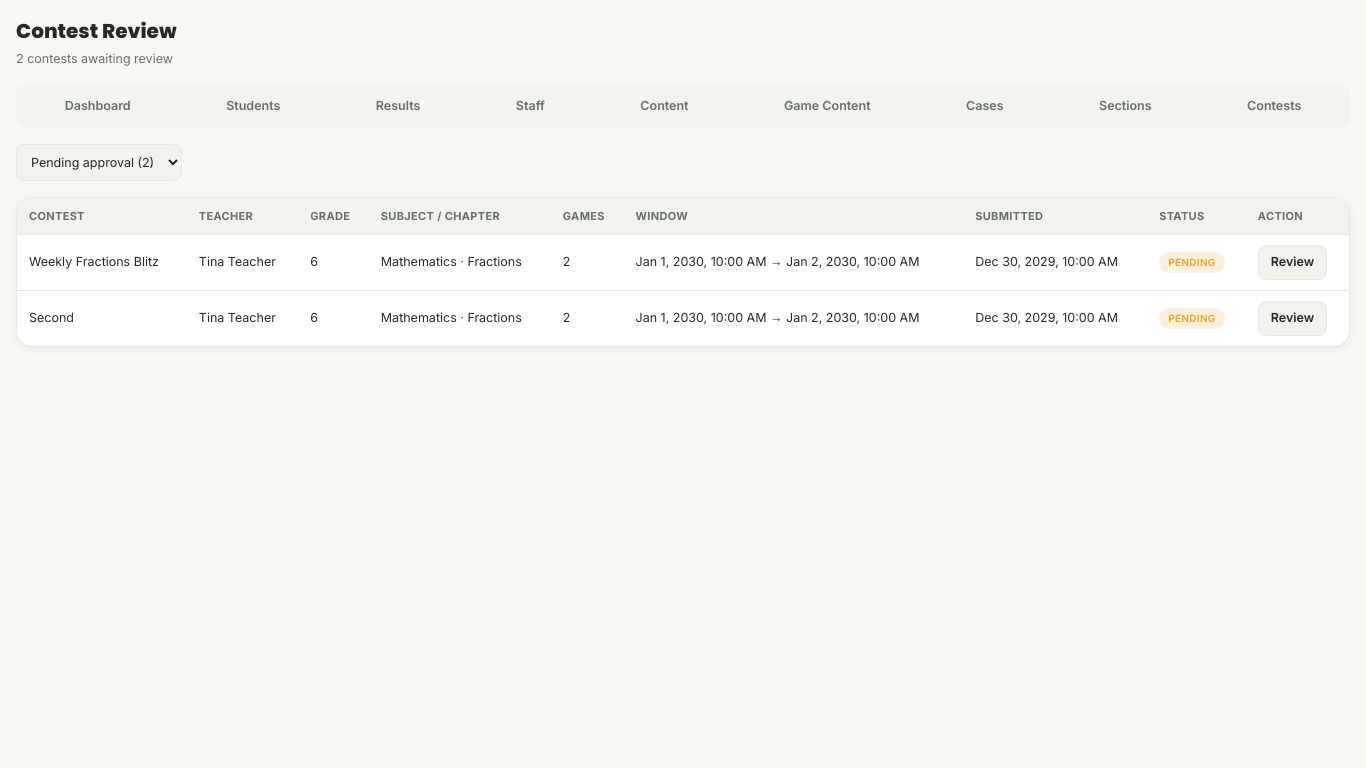
it: approve › confirming posts an EMPTY body (client never sends status/reviewer), closes the modal and refreshes the list
The image size is (1366, 768).
Expected: the text "Weekly Fractions Blitz" is shown, x1=17 y1=234 x2=187 y2=290
Click the button "Review" in the row of "Weekly Fractions Blitz": (1293, 262) x1=1258 y1=245 x2=1327 y2=280
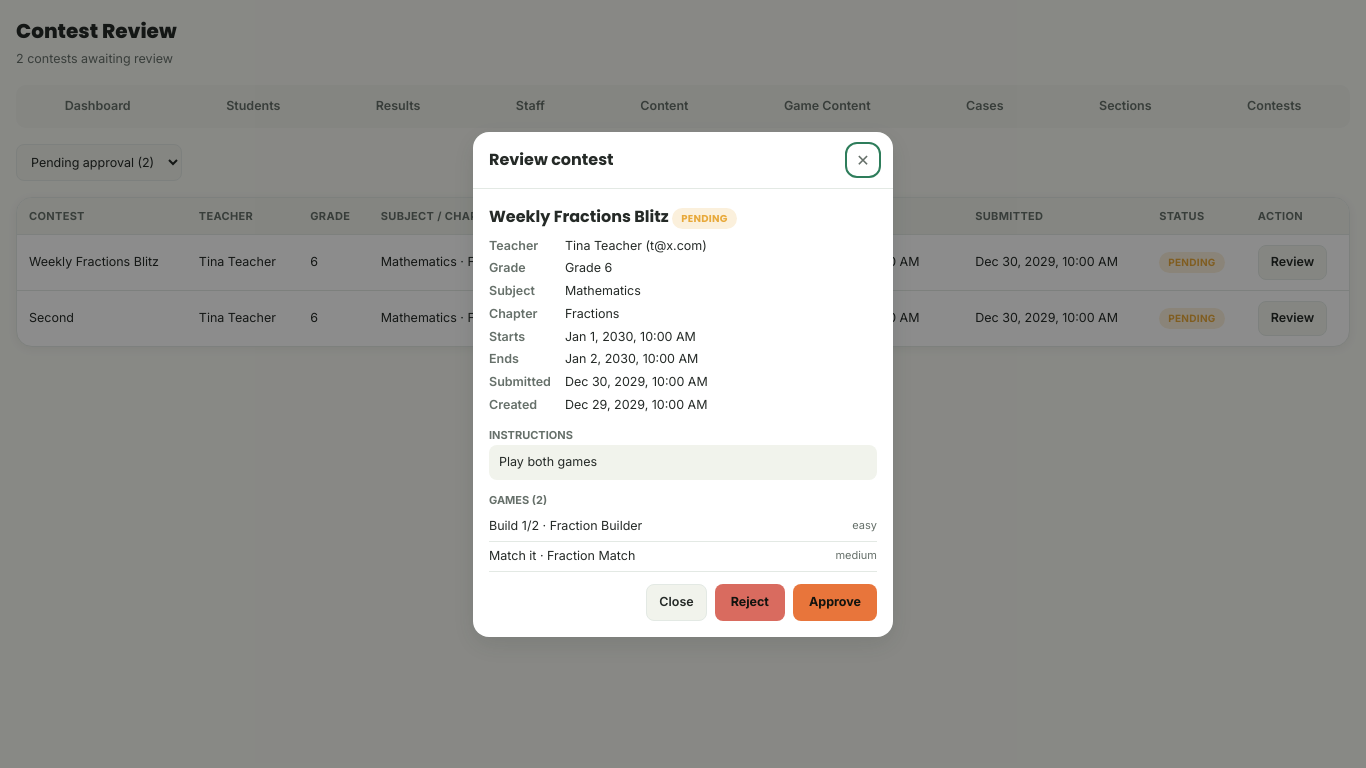
Result: the dialog is shown at x1=473 y1=132 x2=893 y2=636
Result: the text "Tina Teacher (t@x.com)" is shown at x1=565 y1=238 x2=707 y2=252
Click the button "Approve": (835, 602) x1=793 y1=584 x2=877 y2=621
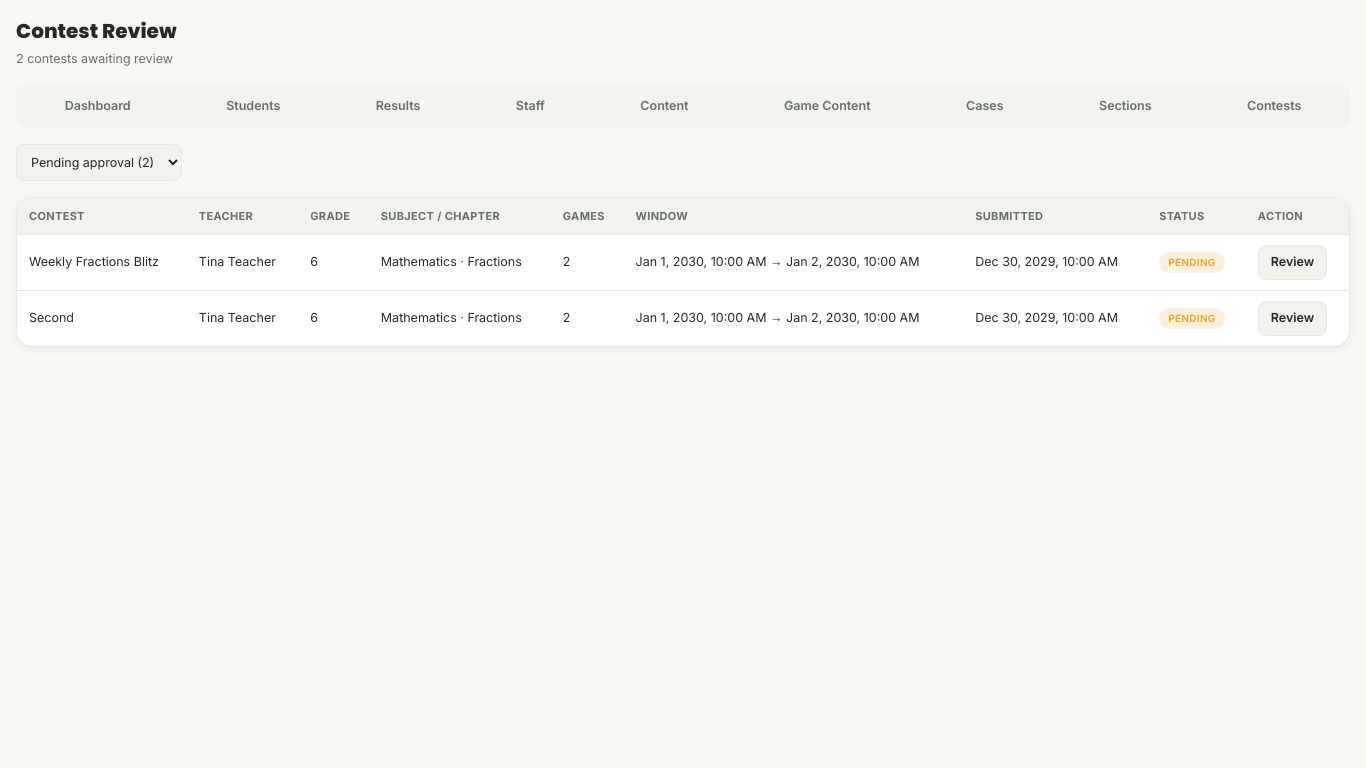
Result: the dialog is gone
